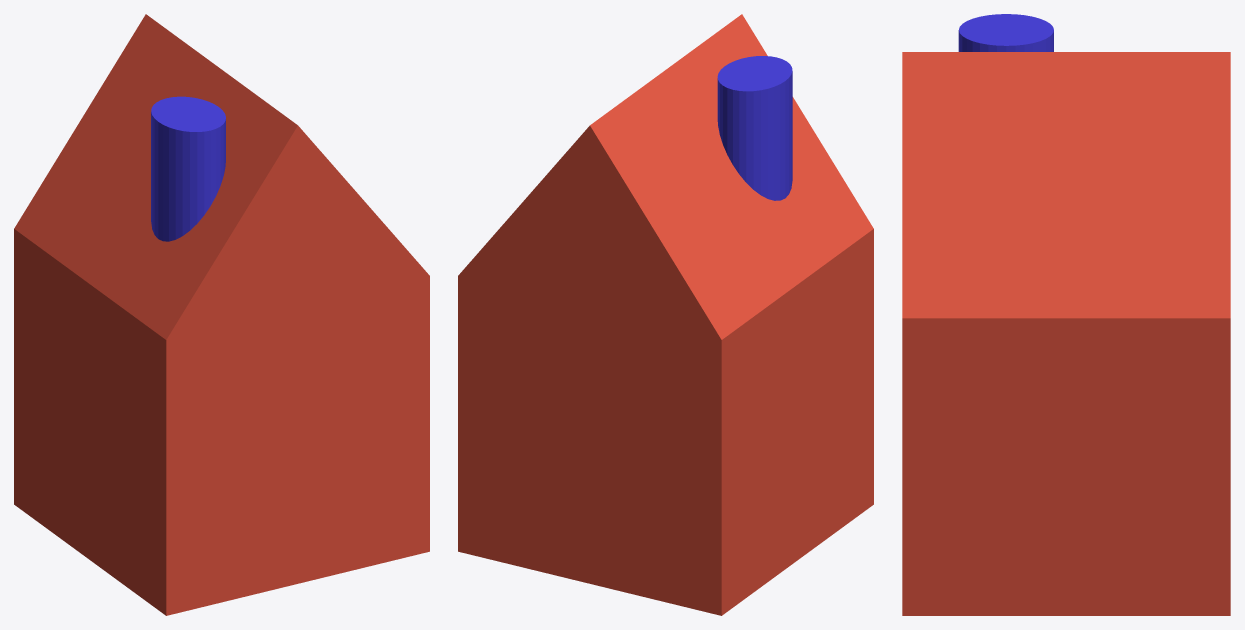
The model's file is Domecek.glb.
3 renders of one model, left to right at view 1: azimuth 30°, elevation 25°; view 2: azimuth 150°, elevation 25°; view 3: azimuth 270°, elevation 25°, orthographic. The views are drawn at different scales.
Parts seen in each view (by area): view 1: Cube, Cylinder; view 2: Cube, Cylinder; view 3: Cube, Cylinder.
Boxes of the visible parts, x1,y1,x2,y2 form: Cube: (14, 14, 429, 615); Cylinder: (151, 96, 225, 241); Cube: (458, 14, 873, 615); Cylinder: (717, 56, 792, 200); Cube: (902, 52, 1230, 615); Cylinder: (958, 14, 1053, 51).
Bounding box in the file's own units: 2 × 3.32 × 2.
